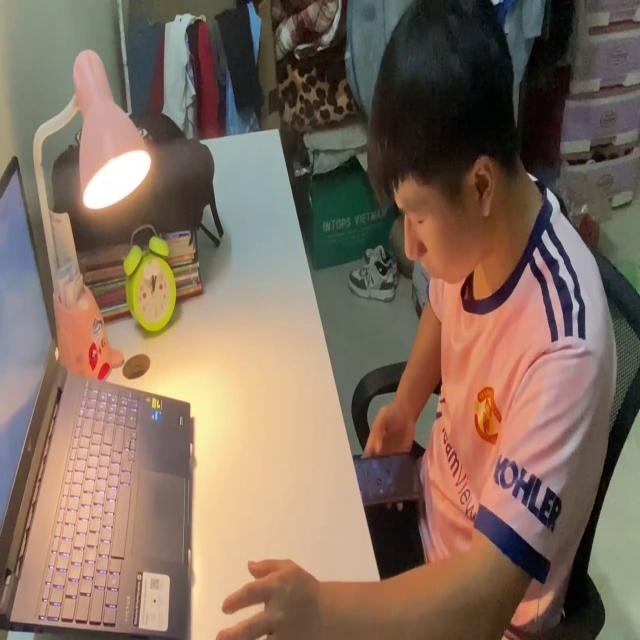laptop: (0, 150, 194, 640)
phone: (345, 448, 425, 507)
student: (213, 0, 618, 640)
